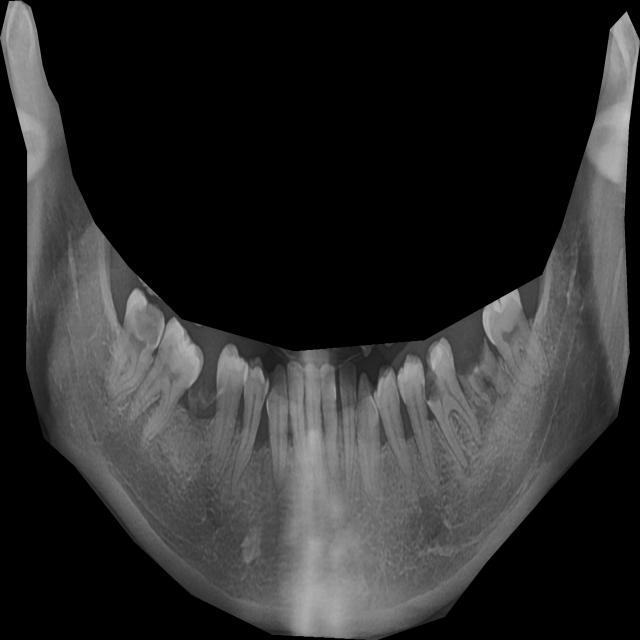mandibula: (0, 0, 640, 640)
